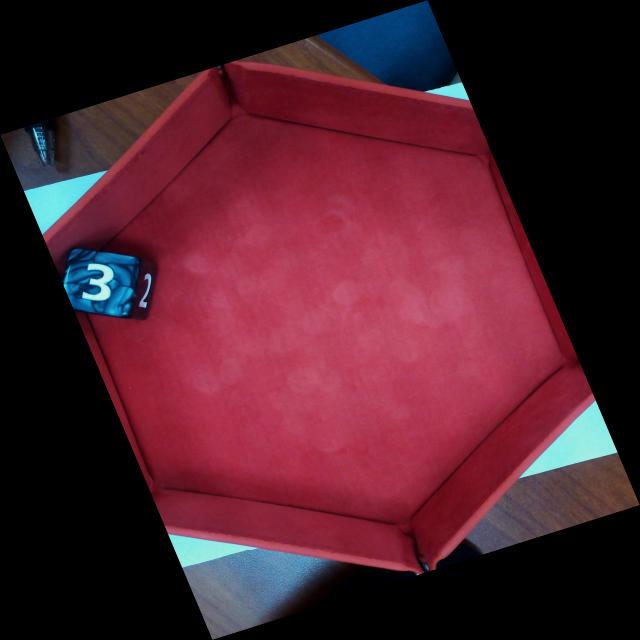dice: (57, 246, 142, 319)
